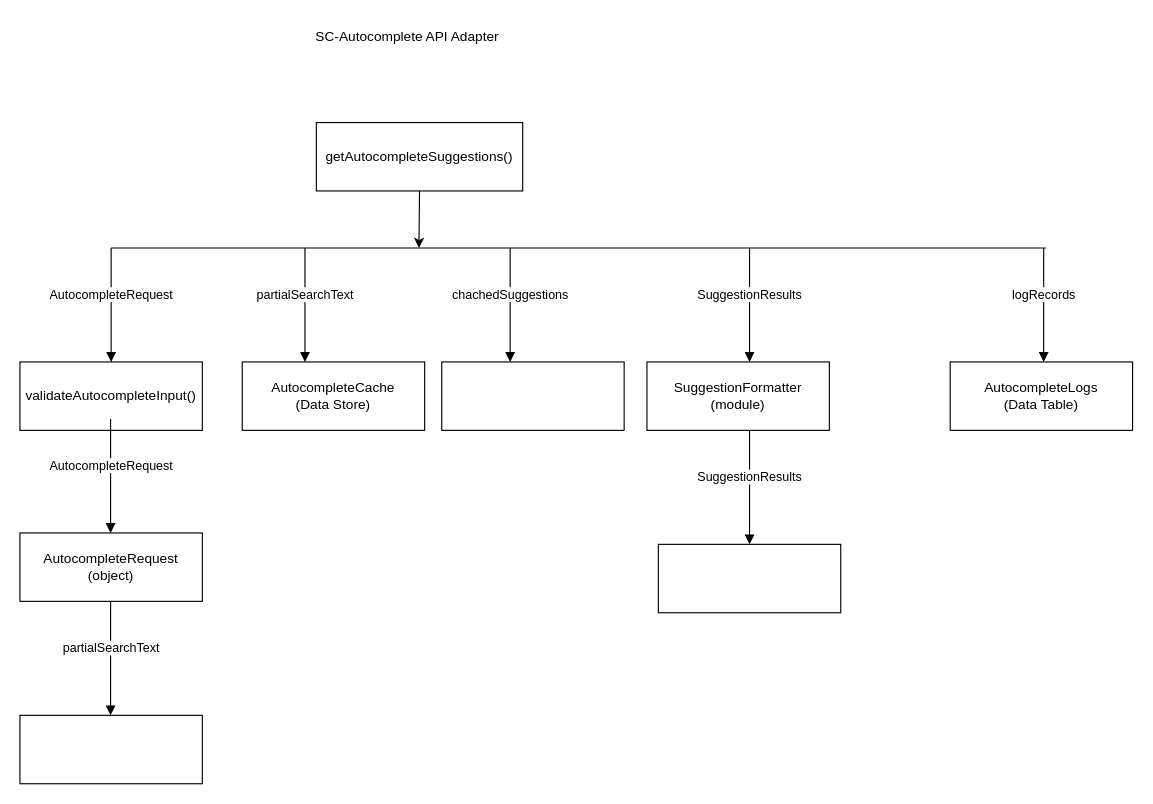
Some shapes in this 1153 by 804 pixel diagram are drawn without their labels. Each missing label, with the centre of its shape:
"AutocompleteAPI (ExternalAPI)" belongs at [532,395].
"partialSearchText (variable)" belongs at [110,749].
"SuggestionResults (object)" belongs at [749,578].
